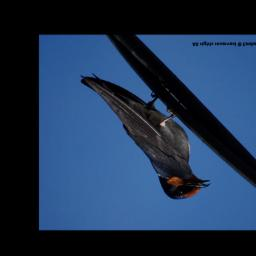Swallow: (79, 76, 210, 200)
